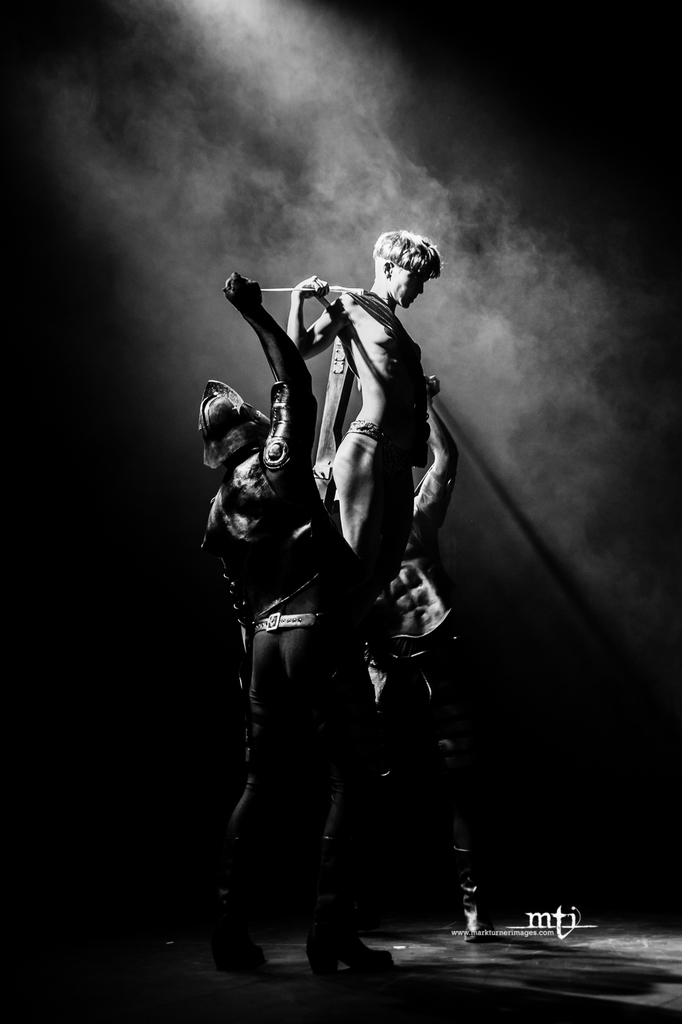Human-face: (391, 271, 428, 311)
